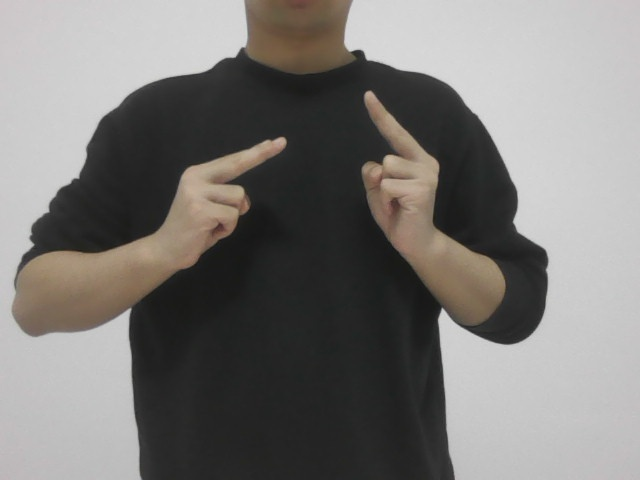know: (157, 95, 442, 285)
